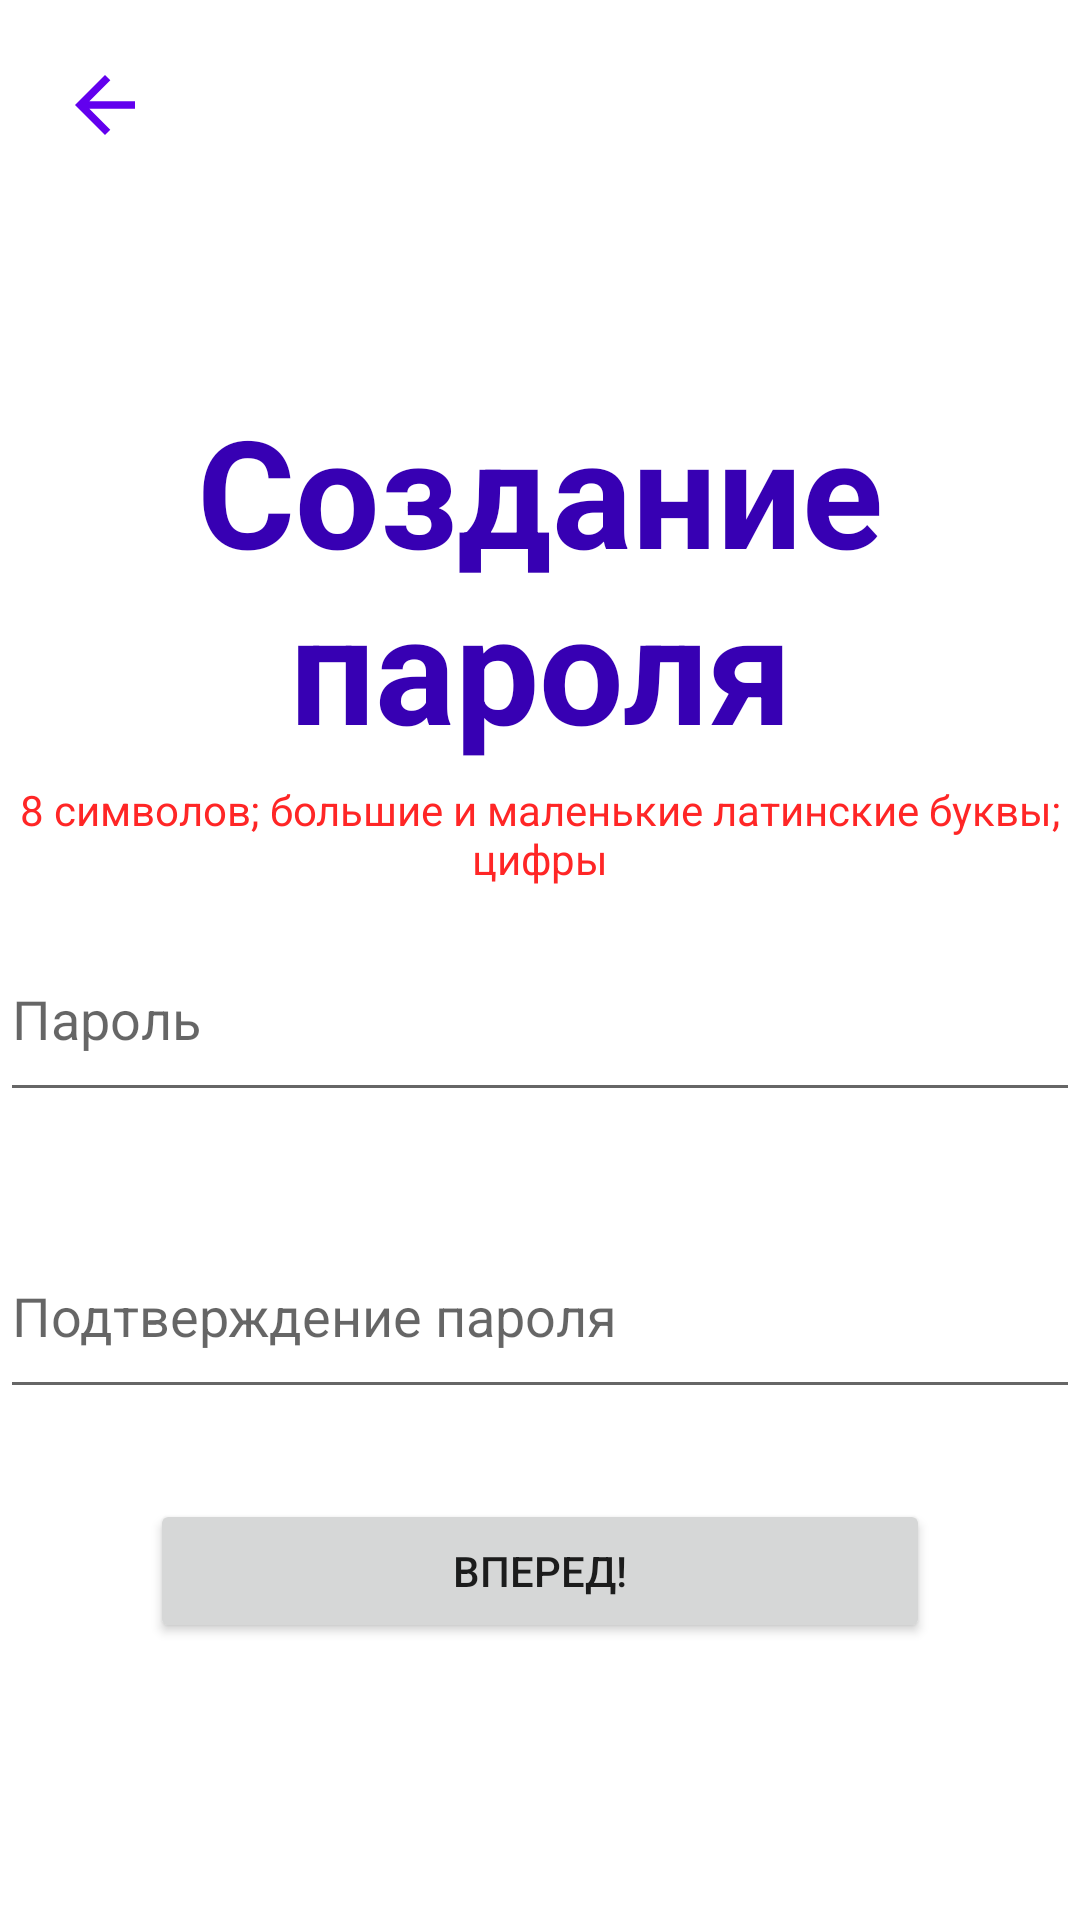

Point at icon controls on the screen. Image size 1080×1920, points as (x=x, y=y).
back: (x=105, y=105)
